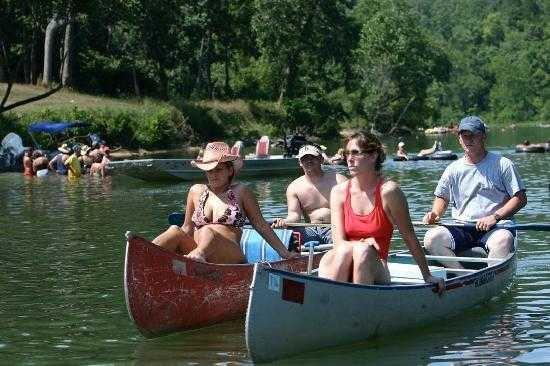kayak: (245, 221, 518, 362), (123, 230, 253, 338), (109, 158, 205, 182), (239, 157, 300, 177), (415, 141, 453, 160), (515, 143, 550, 153)
